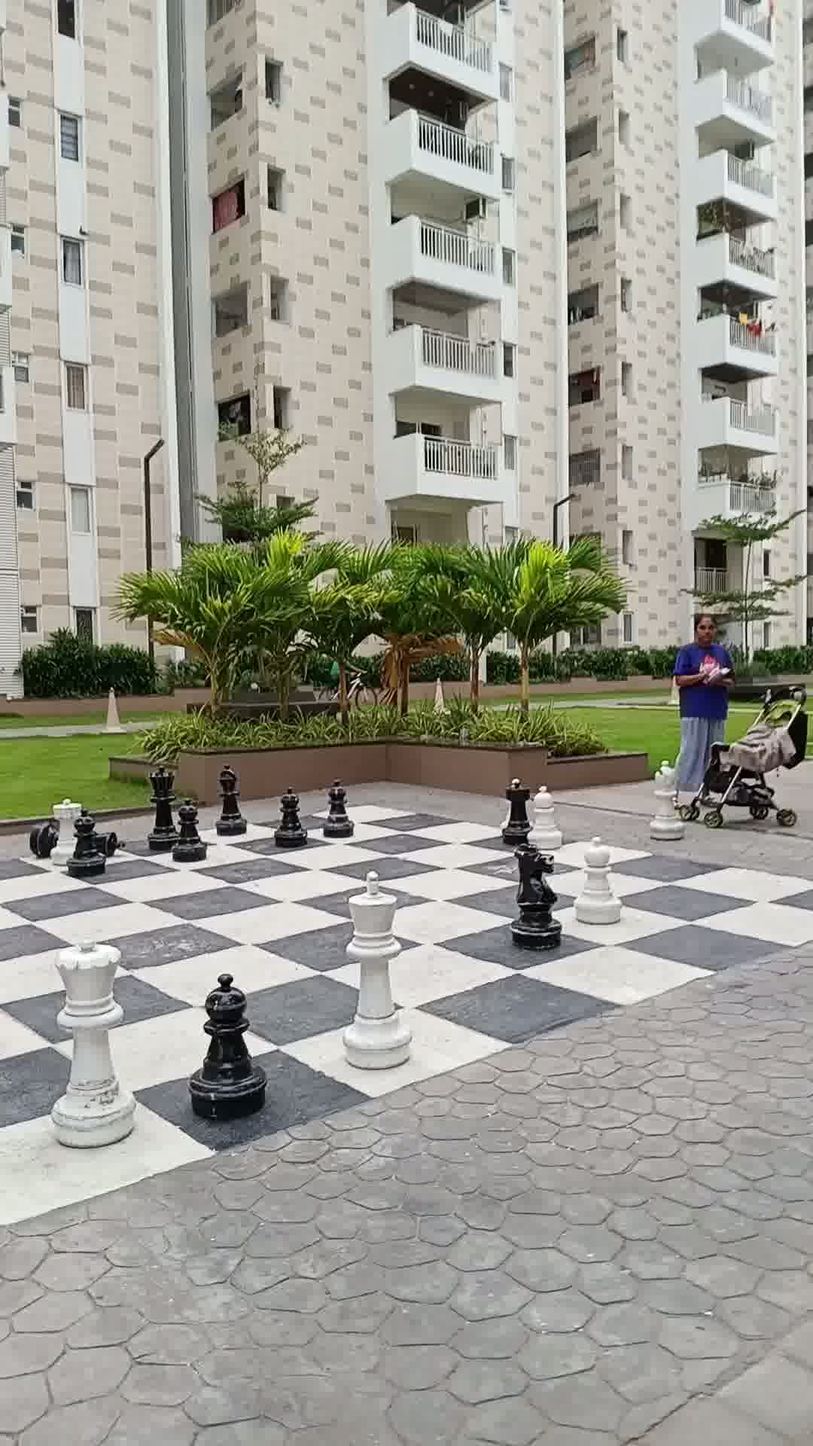person: (669, 589, 737, 817)
tree: (491, 520, 624, 746), (427, 499, 544, 733), (133, 528, 254, 733), (312, 509, 421, 733), (373, 514, 485, 722), (697, 475, 805, 689), (248, 515, 328, 746), (218, 355, 310, 547)
